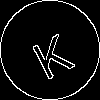K: (25, 25, 76, 81)
